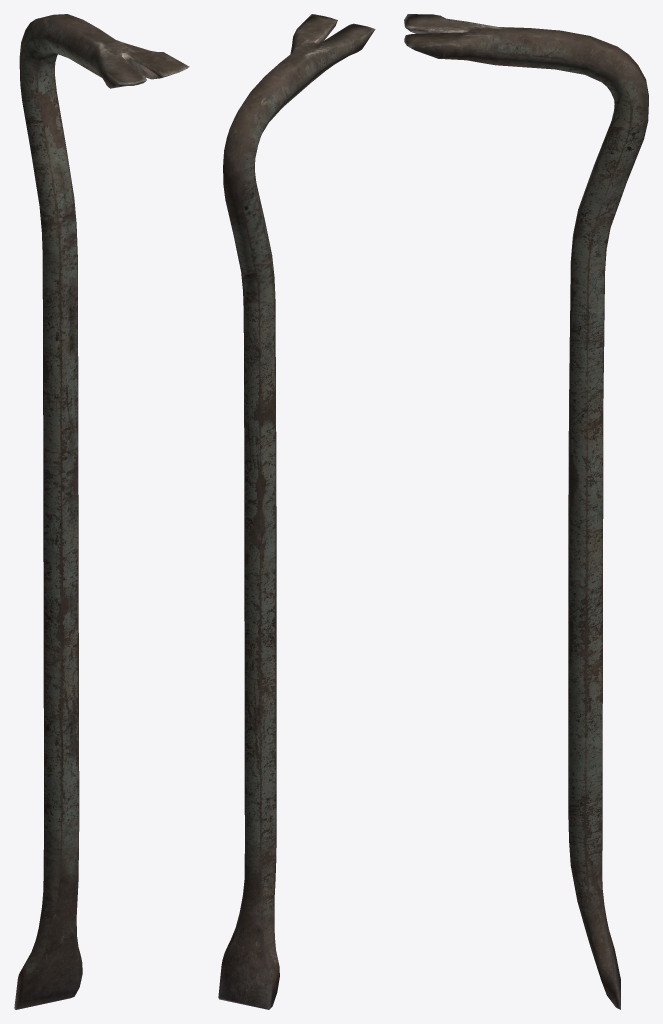
The model's file is crowbar_01.glb.
3 renders of one model, left to right at view 1: azimuth 30°, elevation 25°; view 2: azimuth 150°, elevation 25°; view 3: azimuth 270°, elevation 25°, orthographic. The views are drawn at different scales.
Visible parts, largest first — view 1: crowbar_01; view 2: crowbar_01; view 3: crowbar_01.
Part boxes in pixels (bbox=[...]): crowbar_01: bbox=[14, 14, 189, 1009]; crowbar_01: bbox=[218, 14, 375, 1009]; crowbar_01: bbox=[404, 14, 648, 1009].
Size of the model in its own units: 0.0404 by 0.5552 by 0.1274.
1 material, 1 textured.
